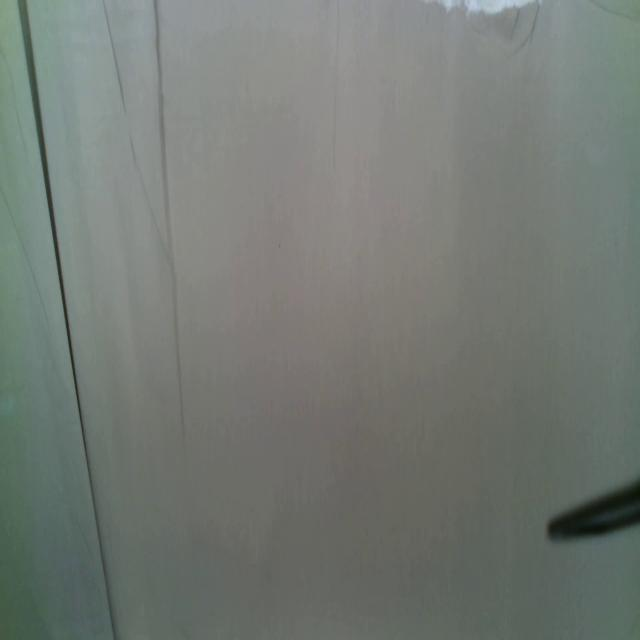crease: (19, 0, 114, 640), (153, 0, 187, 440), (101, 0, 129, 119), (330, 0, 342, 168)
